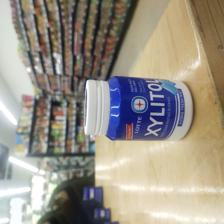Xylitol_blue: (81, 75, 195, 143)
